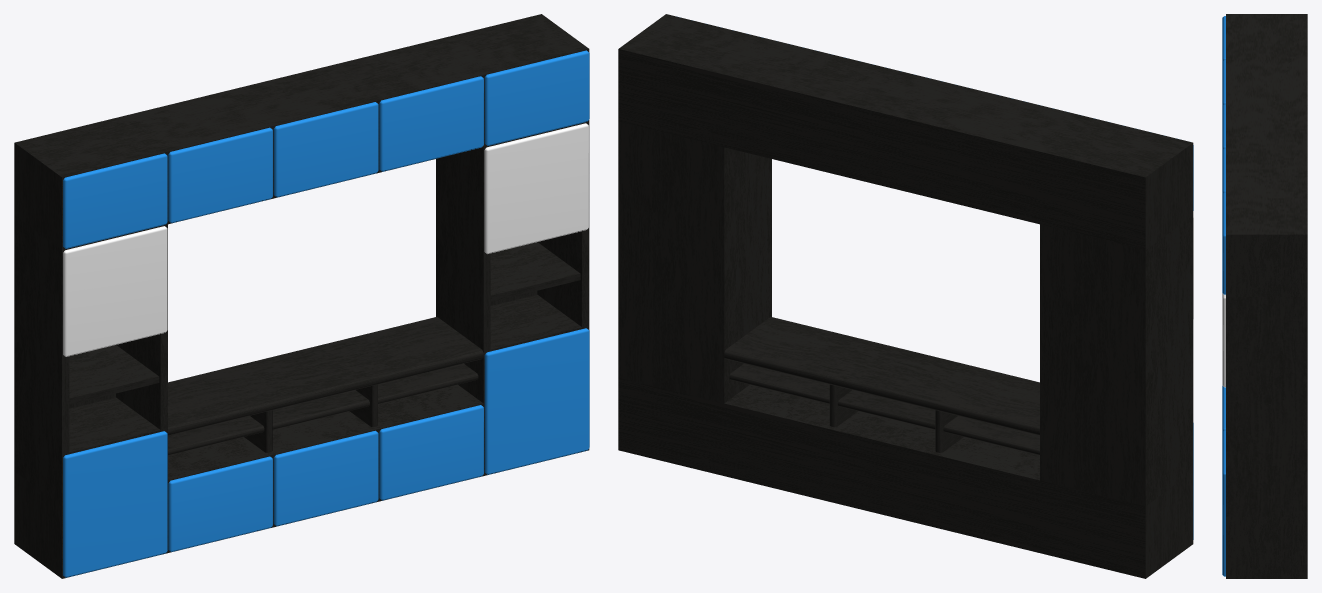
The model's file is wall_cabinet_038.fbx.
3 views of the same model, side by side, from view 1: azimuth 30°, elevation 25°; view 2: azimuth 150°, elevation 25°; view 3: azimuth 270°, elevation 25° (orthographic). The views are drawn at different scales.
Visible parts, largest first — view 1: wall_cabinet_038; view 2: wall_cabinet_038; view 3: wall_cabinet_038.
Boxes of the visible parts, left/top/right/bottom form: wall_cabinet_038: left=14, top=14, right=589, bottom=578; wall_cabinet_038: left=618, top=14, right=1193, bottom=578; wall_cabinet_038: left=1222, top=14, right=1307, bottom=578.
Size of the model in its own units: 402 by 65.77 by 293.
